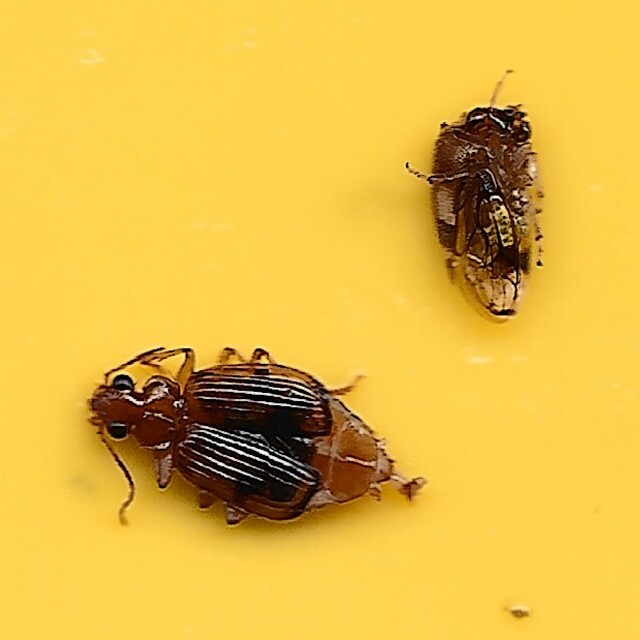Coleoptera: (93, 344, 425, 537)
Hemiptera: (418, 103, 547, 324)
